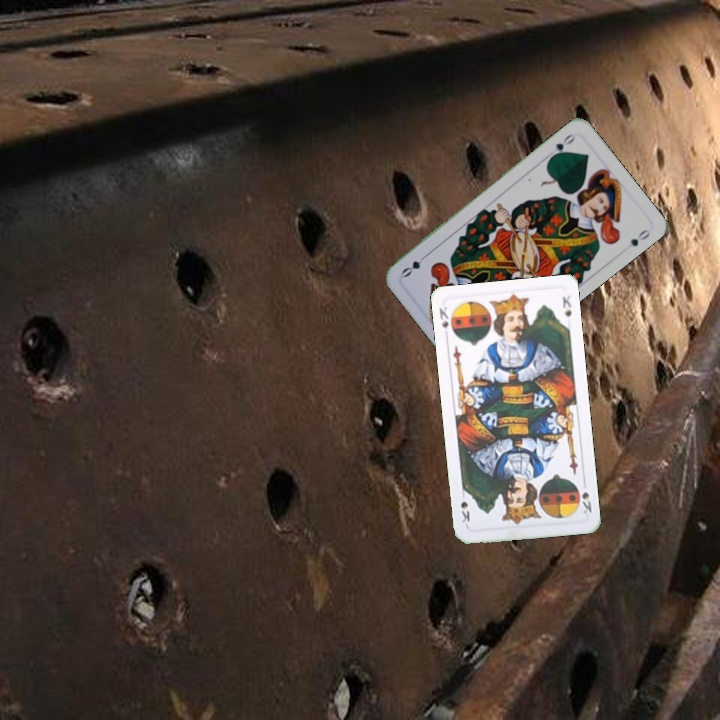GO: (546, 129, 579, 161)
SK: (435, 303, 451, 332), (578, 488, 594, 516)
